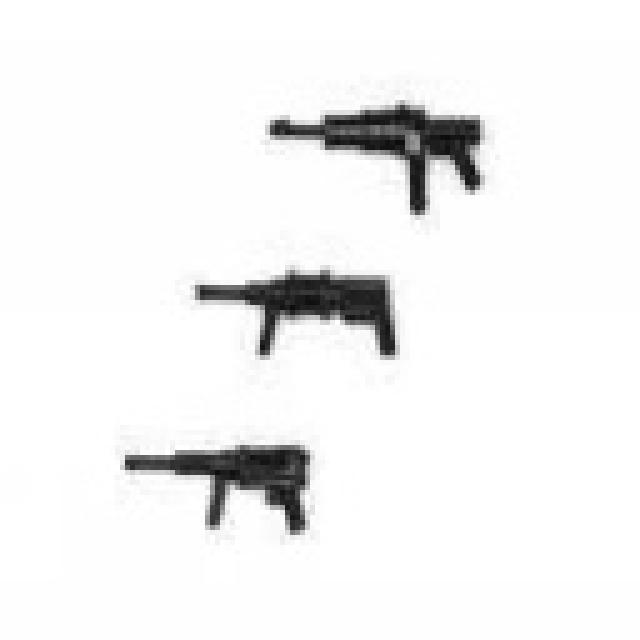Rifle: (254, 85, 514, 225), (112, 439, 336, 559), (191, 265, 423, 380)
